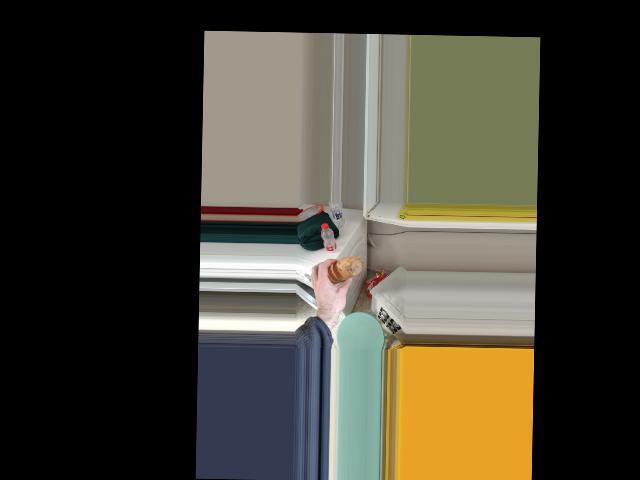sweet_potato: (328, 255, 356, 284)
